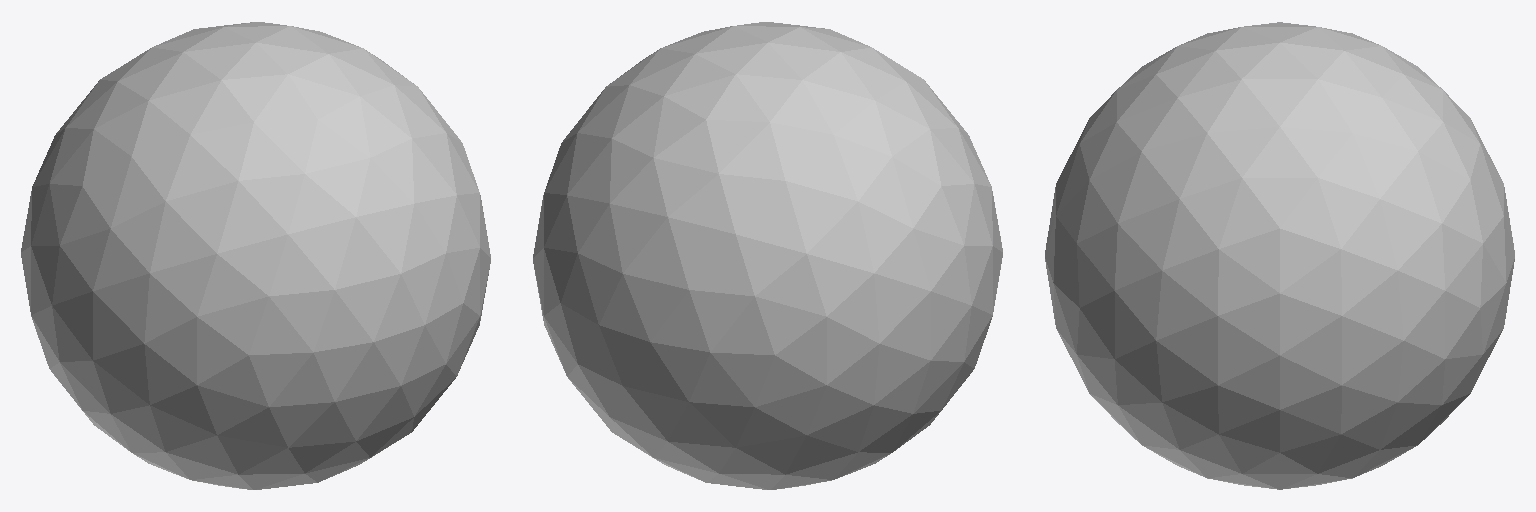
The model's file is dome1.obj.
The picture shows the model from 3 angles: view 1: azimuth 30°, elevation 25°; view 2: azimuth 150°, elevation 25°; view 3: azimuth 270°, elevation 25°; orthographic projection.
Visible parts, largest first — view 1: Geosphere; view 2: Geosphere; view 3: Geosphere.
Boxes of the visible parts, x1,y1,x2,y2 form: Geosphere: [21, 22, 490, 489]; Geosphere: [533, 22, 1002, 489]; Geosphere: [1045, 22, 1514, 489].
Bounding box in the file's own units: 80 × 80 × 80.